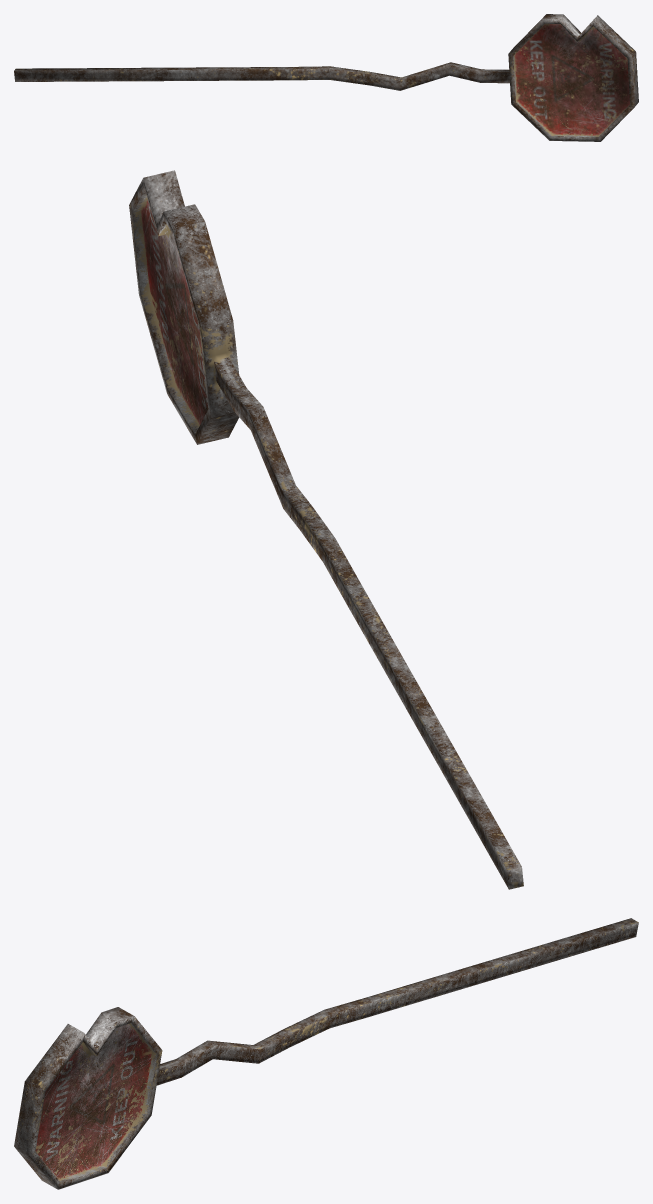
The model's file is Anim_idle_senyal_objetos.0039.obj.
The picture shows the model from 3 angles, top to bottom: view 1: azimuth 30°, elevation 25°; view 2: azimuth 150°, elevation 25°; view 3: azimuth 270°, elevation 25°; orthographic projection. The views are drawn at different scales.
Size of the model in its own units: 9.23 by 2.6 by 8.81.
